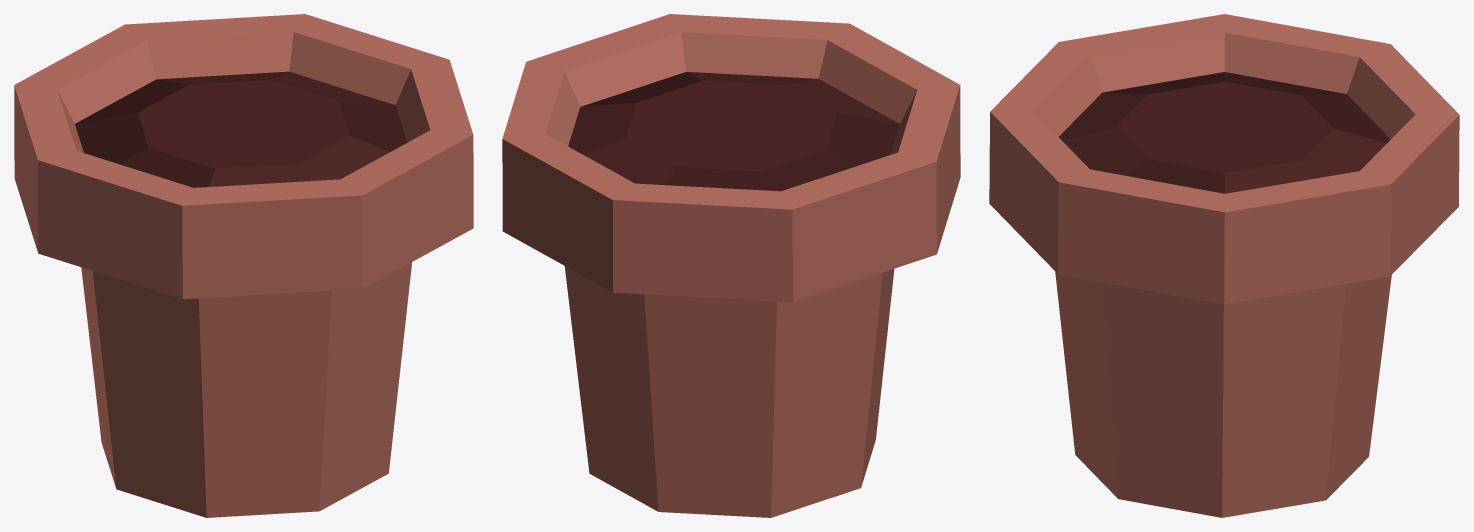
The model's file is PotPraktek.fbx.
3 renders of one model, left to right at view 1: azimuth 30°, elevation 25°; view 2: azimuth 150°, elevation 25°; view 3: azimuth 270°, elevation 25°, orthographic.
Visible parts, largest first — view 1: pot 1.002; view 2: pot 1.002; view 3: pot 1.002.
Part boxes in pixels (<box>): pot 1.002: <box>14,14,473,517</box>; pot 1.002: <box>502,14,960,517</box>; pot 1.002: <box>989,14,1459,517</box>.
Bounding box in the file's own units: 49.53 × 40.18 × 49.61.
